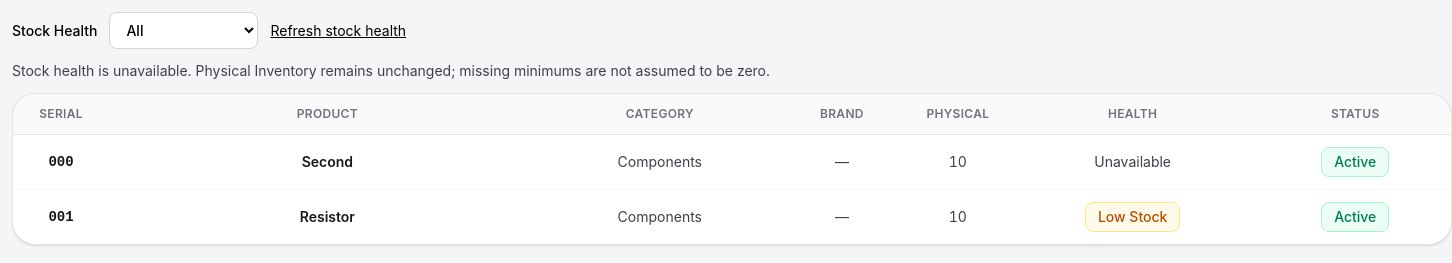
Test case: filters authoritative rows while preserving Product order and search scope
Step 1. Select "Low Stock" in the dropdown labelled "Stock Health" → (184, 30), box [109,12,258,49]
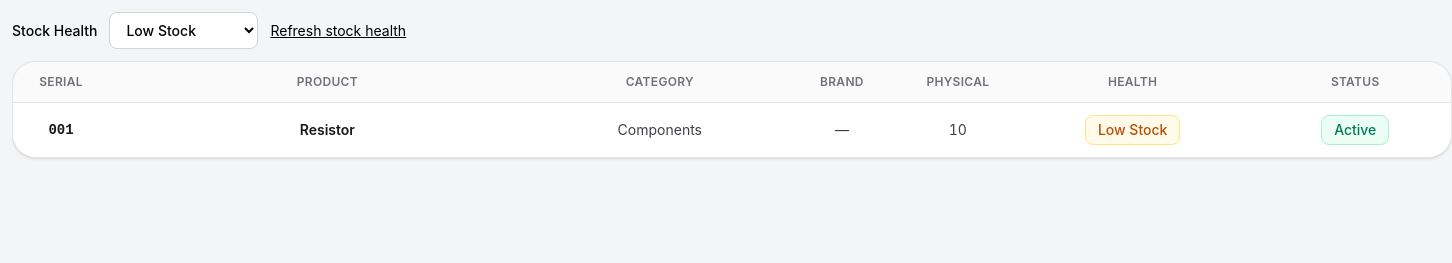
expect the link "Second" is gone: met
